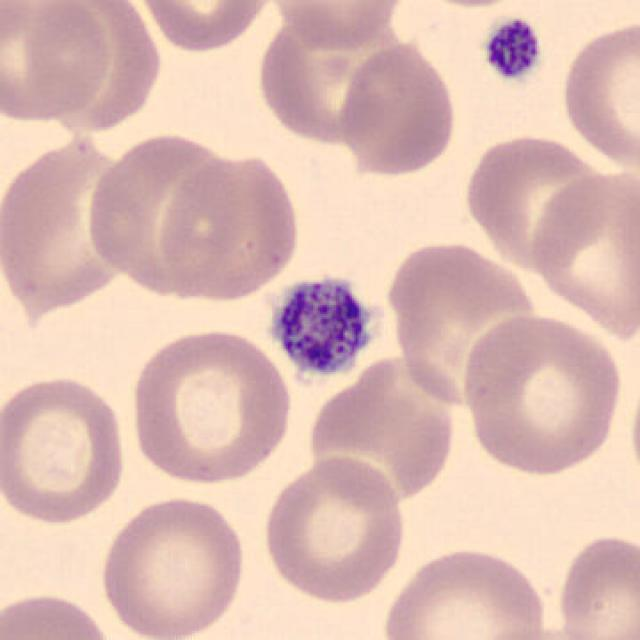Platelets: (263, 270, 382, 384), (480, 14, 544, 85)
RBC: (80, 124, 251, 304), (457, 308, 626, 480), (124, 324, 297, 488), (382, 234, 540, 411), (94, 490, 251, 640), (0, 135, 134, 309), (258, 452, 409, 606), (156, 148, 304, 305), (309, 356, 453, 508), (461, 127, 612, 271), (0, 370, 132, 527), (526, 166, 638, 344), (264, 14, 416, 145), (336, 37, 460, 180), (377, 543, 549, 640), (0, 0, 116, 125), (556, 14, 638, 173), (551, 529, 638, 640), (134, 0, 278, 55), (263, 0, 413, 51), (0, 587, 121, 640), (466, 624, 615, 640), (626, 351, 640, 506)
